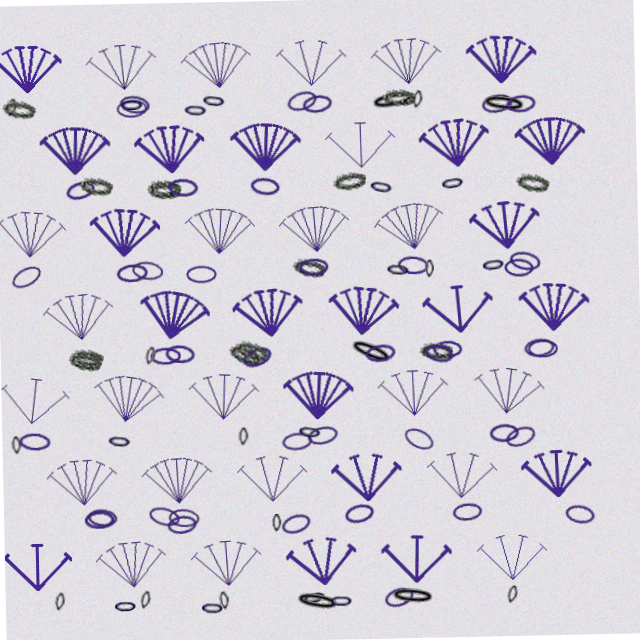chain: (346, 336, 394, 370), (288, 589, 335, 614), (374, 90, 421, 114), (485, 96, 532, 119), (10, 256, 45, 286), (399, 426, 434, 456), (226, 339, 263, 367), (384, 587, 430, 609), (233, 336, 269, 363), (239, 342, 273, 369), (501, 427, 535, 454), (275, 510, 309, 536), (143, 501, 177, 526), (290, 88, 323, 113), (67, 173, 100, 198), (377, 586, 410, 611), (509, 253, 543, 277), (335, 170, 370, 193), (293, 256, 328, 279), (67, 345, 102, 368), (422, 344, 455, 368), (339, 502, 372, 526), (6, 92, 41, 114), (518, 176, 553, 198), (304, 424, 337, 447), (560, 508, 592, 531), (485, 96, 518, 118), (132, 256, 165, 278), (82, 171, 116, 192), (123, 90, 155, 112), (306, 93, 338, 115), (69, 343, 103, 363), (252, 175, 284, 196), (162, 511, 194, 532), (364, 344, 395, 365), (83, 503, 114, 524), (117, 259, 149, 279), (398, 257, 430, 277), (16, 426, 48, 446), (164, 505, 196, 525), (510, 98, 541, 118), (164, 341, 195, 361), (523, 342, 554, 362), (279, 431, 310, 451), (448, 505, 479, 525), (370, 177, 398, 199), (387, 90, 420, 108), (150, 176, 183, 194), (151, 178, 184, 196), (419, 344, 452, 362), (295, 586, 322, 608), (121, 95, 152, 114), (170, 175, 201, 194), (505, 262, 535, 281), (487, 427, 517, 446), (205, 88, 232, 109), (442, 175, 469, 196), (294, 421, 321, 442), (187, 263, 218, 281), (149, 344, 180, 362), (300, 258, 330, 276), (481, 258, 508, 278), (432, 343, 462, 361), (527, 344, 557, 362), (80, 506, 110, 524), (386, 261, 412, 281), (104, 427, 130, 447), (187, 98, 213, 117), (194, 596, 219, 615), (124, 92, 149, 110), (107, 593, 132, 611), (323, 592, 348, 610), (143, 343, 156, 362), (133, 587, 146, 606), (500, 589, 513, 608), (10, 92, 22, 111), (416, 92, 428, 111), (48, 587, 60, 606), (213, 589, 224, 608), (9, 430, 19, 448), (236, 426, 246, 444), (426, 262, 435, 280), (268, 513, 277, 531)
fan: (135, 280, 213, 344), (373, 197, 451, 260), (88, 364, 165, 426), (469, 364, 545, 425), (421, 116, 496, 175), (231, 282, 306, 341), (326, 282, 401, 341), (90, 34, 164, 92), (185, 34, 259, 92), (42, 283, 116, 341), (280, 532, 354, 590), (470, 200, 544, 257), (0, 365, 70, 425), (90, 200, 163, 257), (422, 283, 495, 340), (90, 532, 163, 589), (137, 118, 210, 174), (185, 201, 258, 257), (280, 201, 353, 257), (280, 367, 353, 423), (422, 450, 495, 506), (185, 533, 258, 589), (376, 35, 448, 91), (233, 118, 305, 173), (518, 118, 590, 173), (518, 284, 590, 339), (186, 367, 258, 422), (43, 450, 115, 505), (138, 450, 210, 505), (0, 200, 69, 257), (471, 36, 542, 90), (328, 451, 399, 505), (518, 451, 589, 505), (281, 36, 352, 89), (43, 119, 114, 172), (376, 368, 447, 421), (376, 534, 447, 587), (329, 119, 399, 172), (234, 451, 304, 504), (472, 535, 542, 587), (0, 37, 67, 89), (0, 535, 67, 587)
